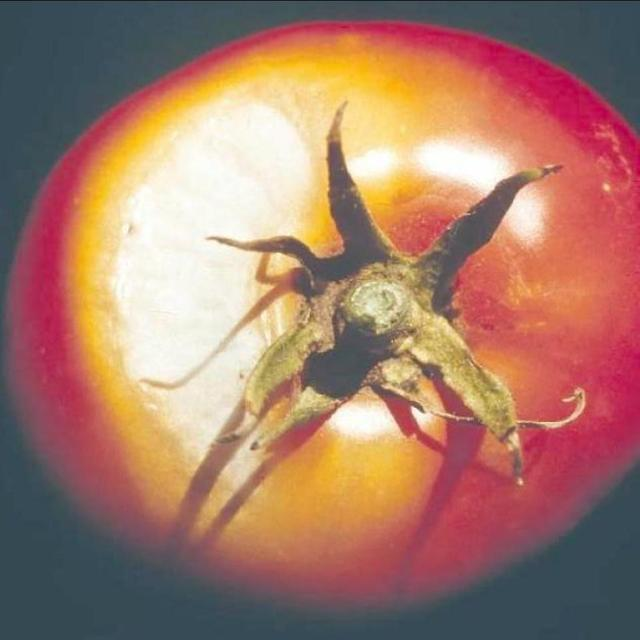Sunscald Fruit: (51, 63, 215, 334)
